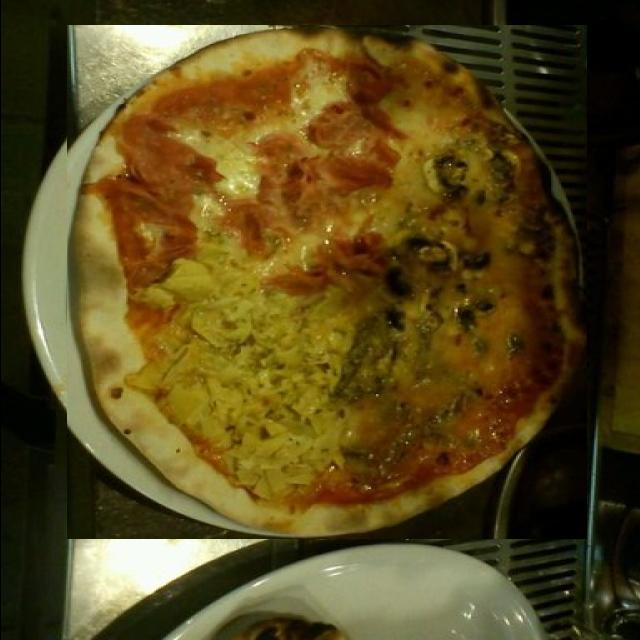pizza: (66, 25, 586, 539)
